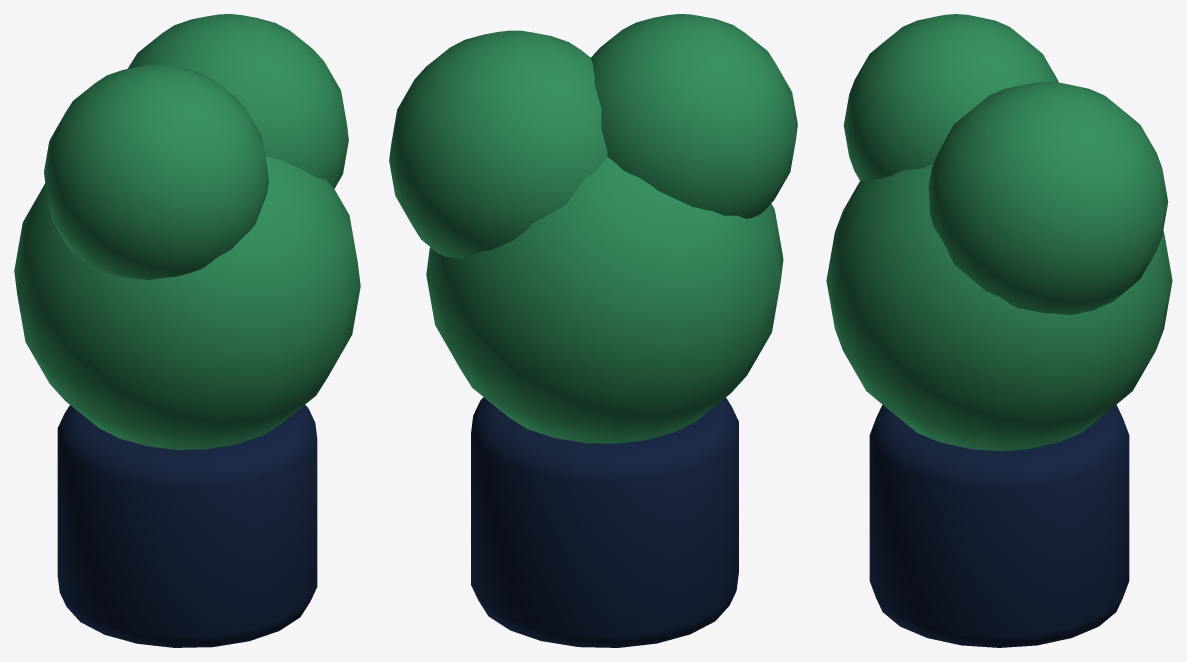
The model's file is planta.glb.
3 renders of one model, left to right at view 1: azimuth 30°, elevation 25°; view 2: azimuth 150°, elevation 25°; view 3: azimuth 270°, elevation 25°, orthographic. The views are drawn at different scales.
Parts seen in each view (by area): view 1: hoja0, maceta, hoja2, hoja1; view 2: hoja0, maceta, hoja1, hoja2; view 3: hoja0, maceta, hoja1, hoja2.
Part boxes in pixels (left/top/right/bottom): hoja0: left=14, top=156, right=360, bottom=449; maceta: left=57, top=405, right=317, bottom=647; hoja2: left=44, top=65, right=268, bottom=279; hoja1: left=128, top=14, right=348, bottom=188; hoja0: left=426, top=157, right=783, bottom=443; maceta: left=471, top=397, right=738, bottom=647; hoja1: left=389, top=30, right=607, bottom=259; hoja2: left=591, top=14, right=797, bottom=218; hoja0: left=826, top=164, right=1172, bottom=450; maceta: left=869, top=405, right=1129, bottom=647; hoja1: left=928, top=81, right=1168, bottom=314; hoja2: left=843, top=14, right=1058, bottom=181.
Bounding box in the file's own units: 0.85 × 1.41 × 0.8.
